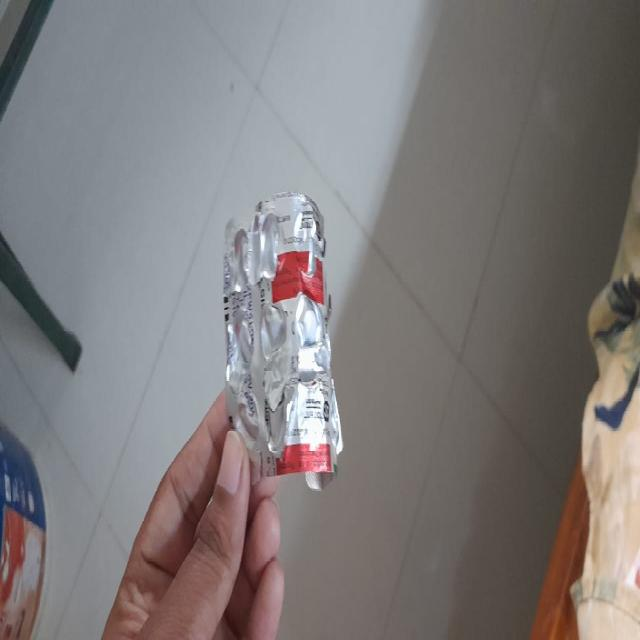Blister_Packs - Non Recyclable: (220, 188, 344, 493)
